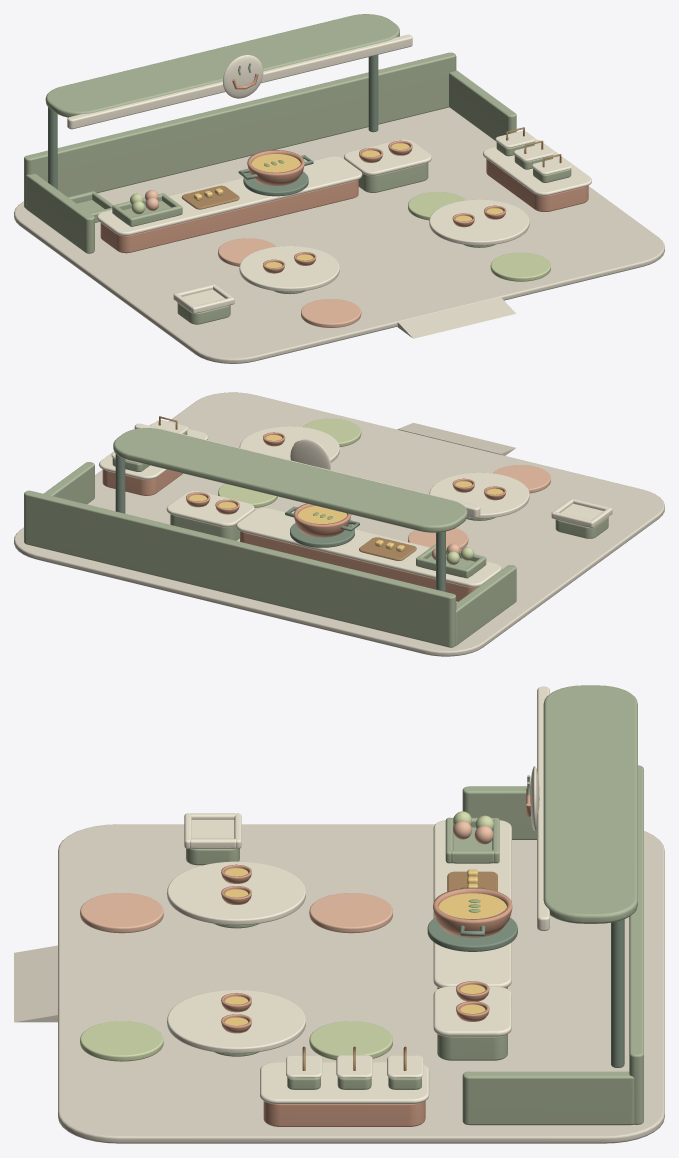
Rendered from ball_restaurant.glb.
3 renders of one model, top to bottom at view 1: azimuth 30°, elevation 25°; view 2: azimuth 150°, elevation 25°; view 3: azimuth 270°, elevation 25°, orthographic. The views are drawn at different scales.
Parts seen in each view (by area): view 1: Foundation, Back_wall, Canopy_sage_roof, Preparation_counter, Preparation_worktop, Canopy_cream_band, Low_table_1, Low_table_0, Rear_return, Rear_return.001, Entry_gentle_ramp, Takeaway_top (+15 smaller); view 2: Foundation, Back_wall, Canopy_sage_roof, Preparation_worktop, Low_table_0, Rear_return, Preparation_counter, Low_table_1, Serving_top, Rear_return.001, Entry_gentle_ramp, Takeaway_counter (+17 smaller); view 3: Foundation, Canopy_sage_roof, Rear_return.001, Low_table_1, Low_table_0, Preparation_worktop, Takeaway_top, Back_wall, Takeaway_counter, Entry_gentle_ramp, Serving_top, Floor_cushion_1_0 (+16 smaller).
Boxes of the visible parts, x1,y1,x2,y2 form: Foundation: (14, 107, 664, 363); Back_wall: (24, 52, 456, 208); Canopy_sage_roof: (45, 14, 399, 117); Preparation_counter: (100, 179, 358, 253); Preparation_worktop: (97, 156, 362, 235); Canopy_cream_band: (67, 34, 412, 129); Low_table_1: (429, 199, 529, 245); Low_table_0: (239, 246, 339, 291); Rear_return: (26, 173, 94, 253); Rear_return.001: (449, 70, 516, 141); Entry_gentle_ramp: (397, 297, 515, 338); Takeaway_top: (483, 139, 591, 195); Foundation: (14, 392, 664, 656); Back_wall: (24, 490, 456, 647); Canopy_sage_roof: (113, 428, 467, 532); Preparation_worktop: (236, 508, 501, 587); Low_table_0: (429, 472, 529, 518); Rear_return: (455, 565, 516, 645); Preparation_counter: (240, 531, 477, 601); Low_table_1: (239, 426, 339, 462); Serving_top: (166, 491, 254, 527); Rear_return.001: (43, 462, 94, 504); Entry_gentle_ramp: (397, 423, 515, 455); Takeaway_counter: (102, 469, 182, 495); Foundation: (58, 824, 664, 1143); Canopy_sage_roof: (543, 685, 637, 923); Rear_return.001: (462, 1071, 634, 1125); Low_table_1: (167, 990, 305, 1053); Low_table_0: (167, 861, 305, 925); Preparation_worktop: (433, 820, 511, 987); Takeaway_top: (260, 1062, 429, 1103); Back_wall: (629, 765, 643, 1124); Takeaway_counter: (263, 1101, 425, 1126); Entry_gentle_ramp: (14, 945, 57, 1022); Serving_top: (433, 986, 511, 1036); Floor_cushion_1_0: (80, 1021, 163, 1061).
Size of the model in its own units: 11 by 3.2 by 9.65.
